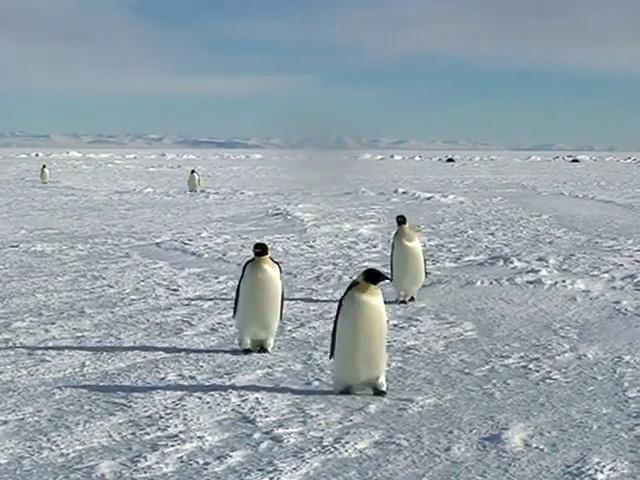animal: (392, 216, 429, 304)
